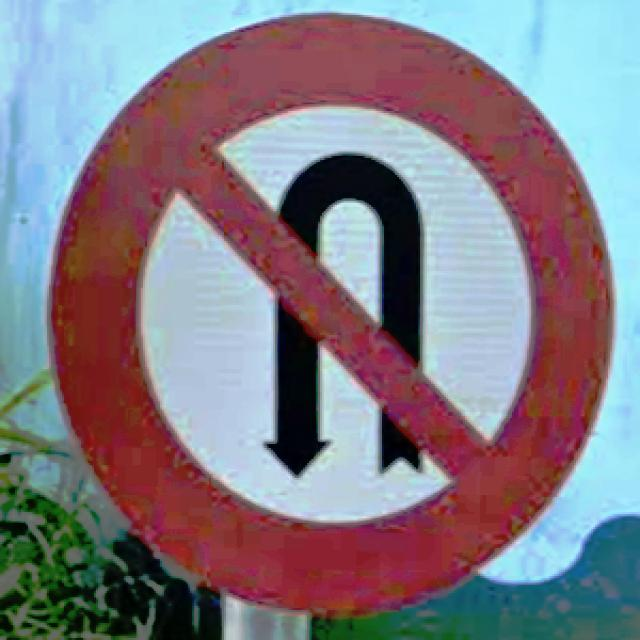nouturn: (45, 11, 619, 619)
